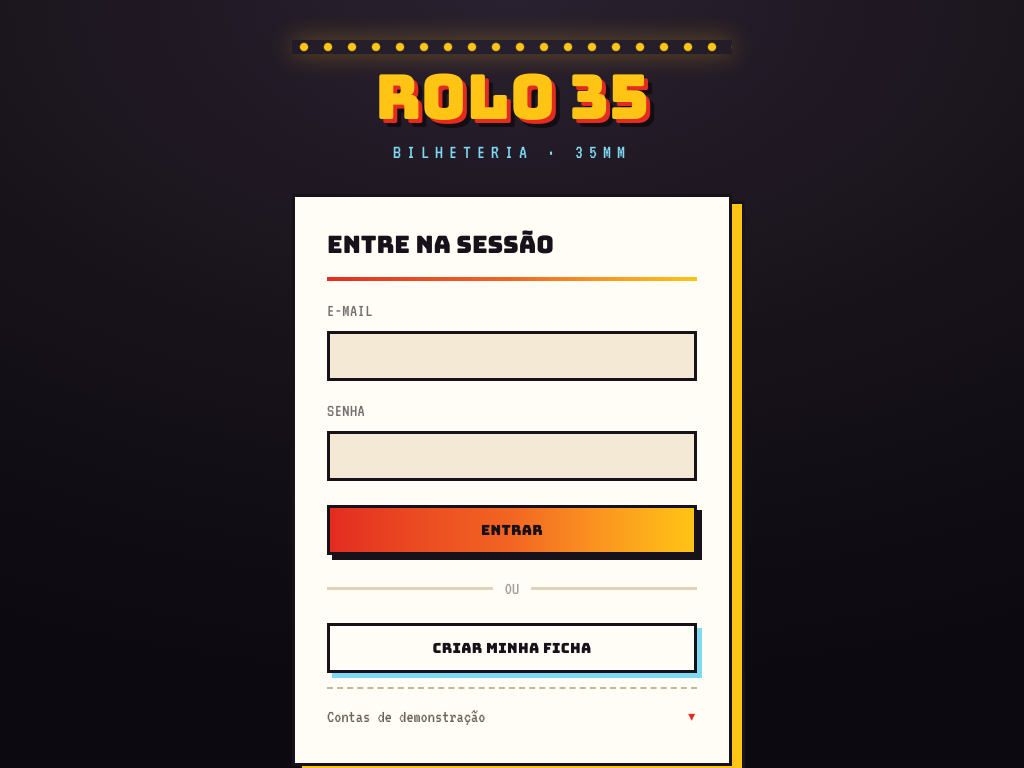
Test case: LoginPage › shows an error message and does not get stuck loading when credentials are invalid
Type "cliente1@rolo35.com.br" into the field labelled "E-MAIL" at (512, 356), box [327, 331, 697, 381]
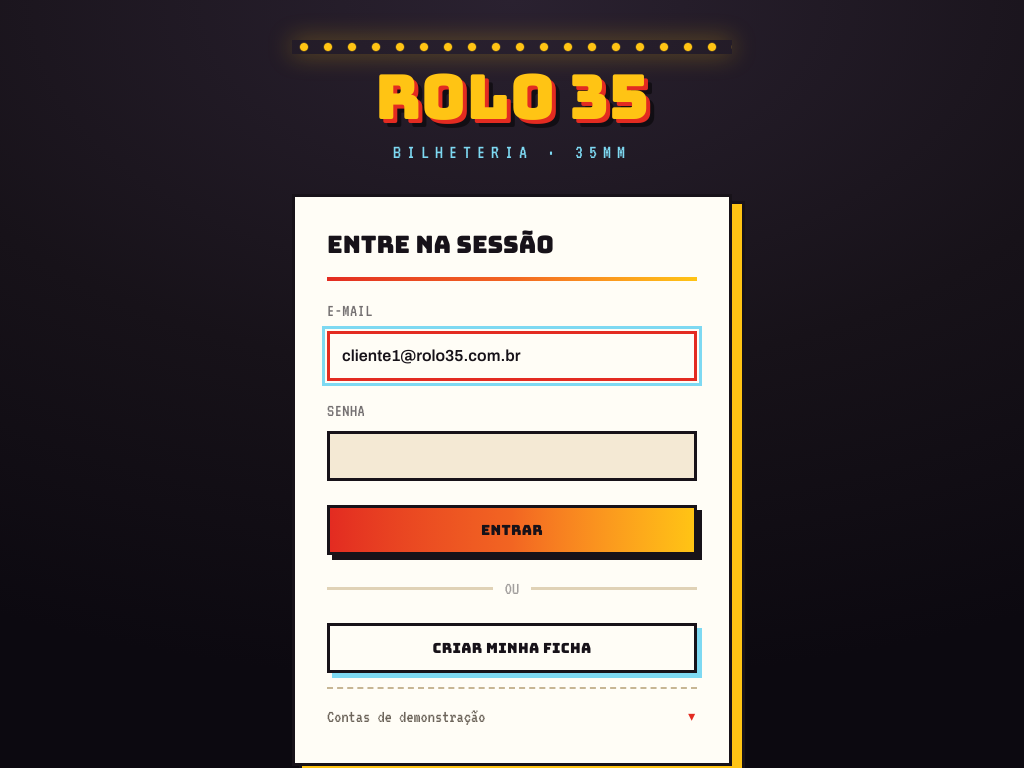
Type "senha-errada" into the password field labelled "SENHA" at (512, 456), box [327, 431, 697, 481]
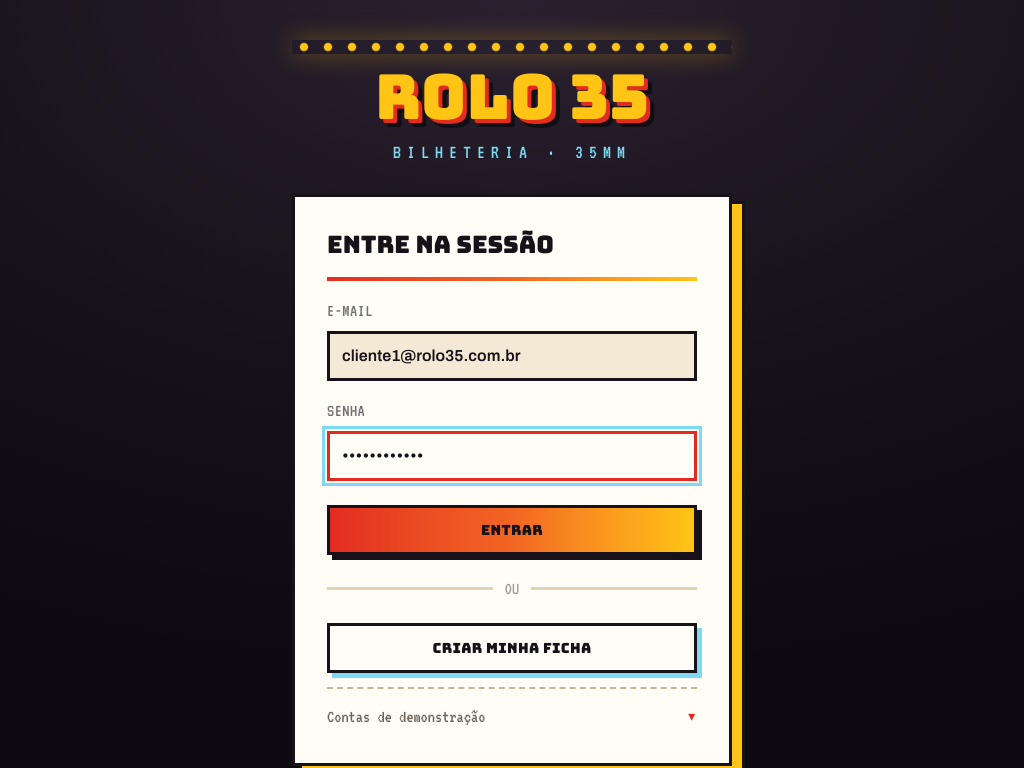
Click the button "ENTRAR" at (512, 530), box [327, 505, 697, 555]
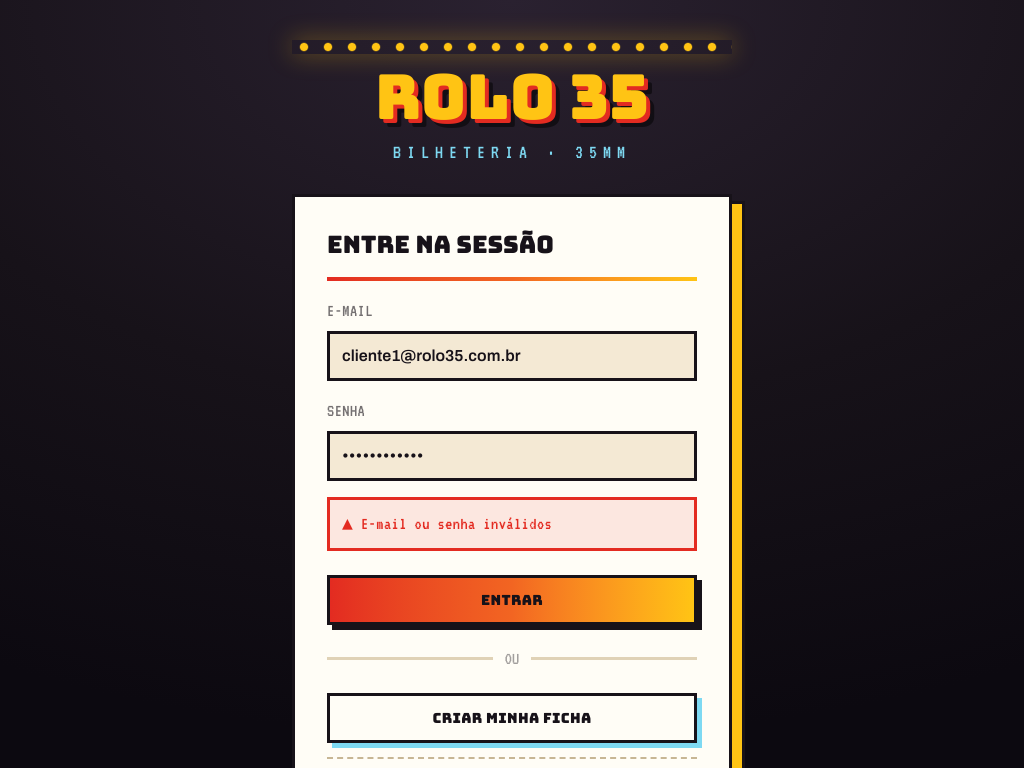
Check: the button "ENTRAR" is enabled, box [327, 575, 697, 625]
Check: the message shows "E-mail ou senha inválidos", box [361, 515, 552, 533]
